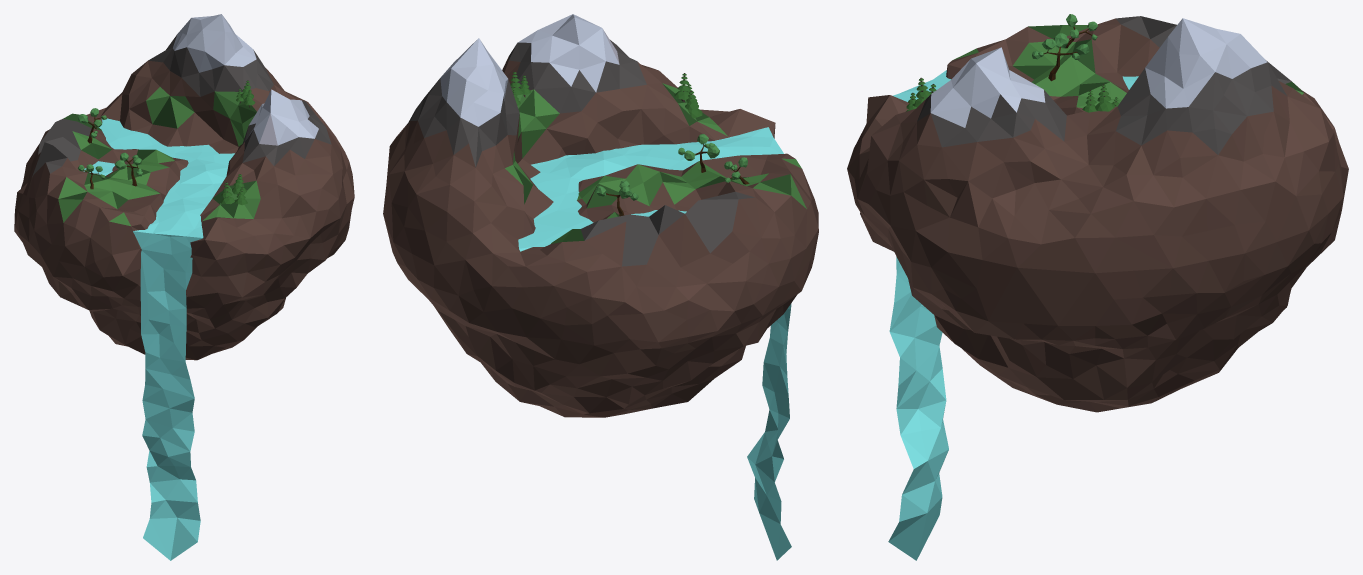
File: island.glb
The picture shows the model from 3 angles, left to right: view 1: azimuth 30°, elevation 25°; view 2: azimuth 150°, elevation 25°; view 3: azimuth 270°, elevation 25°; orthographic projection. The views are drawn at different scales.
Visible parts, largest first — view 1: Icosphere, Plane; view 2: Icosphere, Plane; view 3: Icosphere, Plane, Cube.001.
Boxes of the visible parts, x1,y1,x2,y2 form: Icosphere: (14, 14, 354, 360); Plane: (83, 118, 234, 560); Icosphere: (383, 14, 818, 417); Plane: (518, 127, 791, 560); Icosphere: (847, 16, 1348, 412); Plane: (888, 70, 1138, 560); Cube.001: (1032, 33, 1089, 81).
Bounding box in the file's own units: 19.79 × 28.2 × 19.92.
